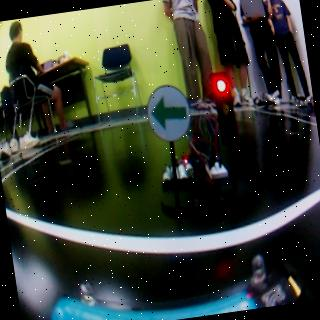left: (144, 90, 189, 138)
red: (212, 74, 248, 200)
